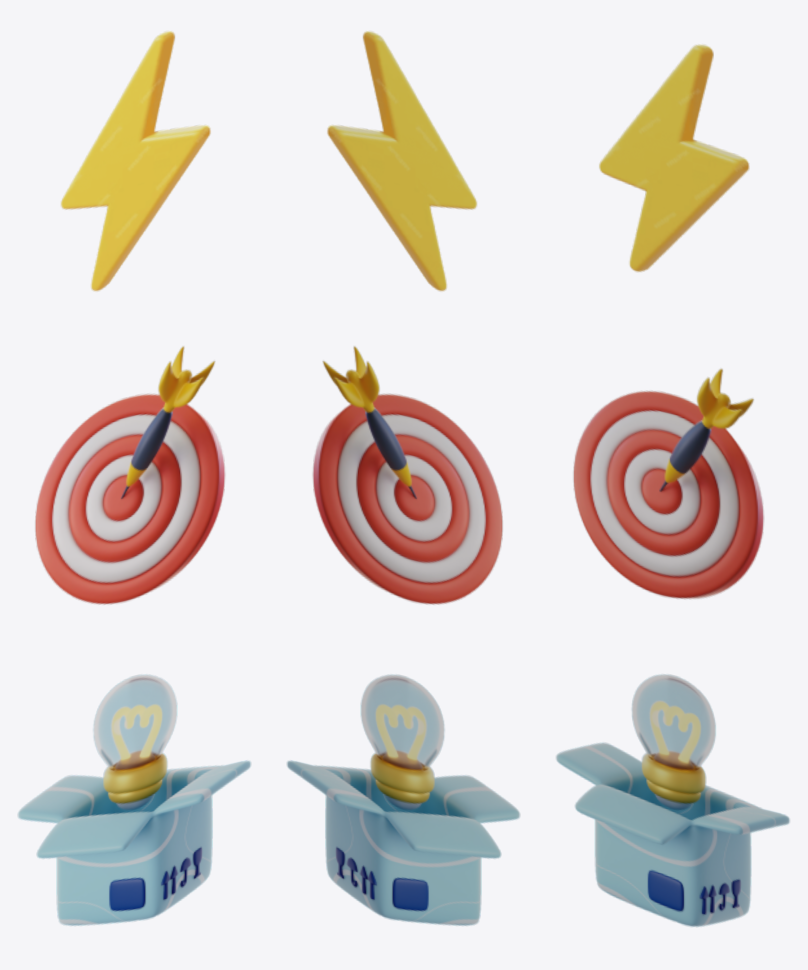
Rendered from icons.glb.
3 views of the same model, side by side, from view 1: azimuth 30°, elevation 25°; view 2: azimuth 150°, elevation 25°; view 3: azimuth 330°, elevation 25° (orthographic).
Parts seen in each view (by area): view 1: mishen, light, spark; view 2: mishen, light, spark; view 3: mishen, light, spark.
Boxes of the visible parts, left/top/right/bottom form: mishen: left=35, top=346, right=225, bottom=604; light: left=17, top=674, right=251, bottom=925; spark: left=61, top=31, right=210, bottom=291; mishen: left=312, top=346, right=502, bottom=604; light: left=286, top=674, right=520, bottom=925; spark: left=327, top=31, right=476, bottom=291; mishen: left=573, top=368, right=764, bottom=599; light: left=556, top=674, right=789, bottom=926; spark: left=599, top=44, right=749, bottom=271.
Bounding box in the file's own units: 1 × 3.54 × 2.22e-16.
3 materials, 3 textured.
